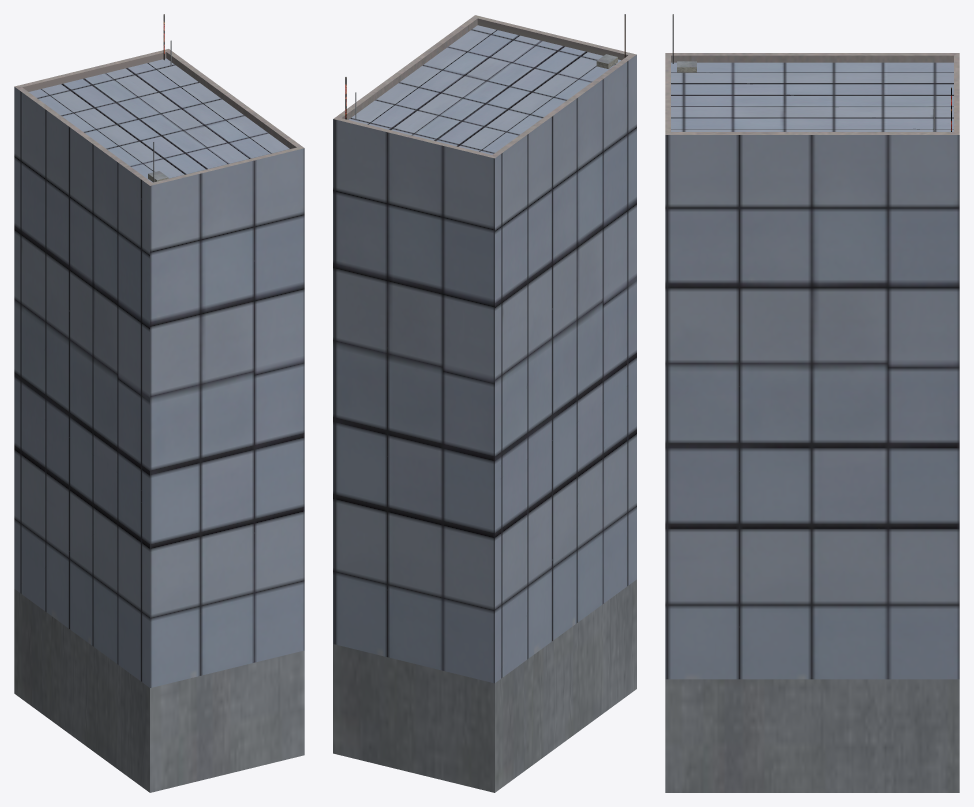
File: Building 4.fbx
3 renders of one model, left to right at view 1: azimuth 30°, elevation 25°; view 2: azimuth 150°, elevation 25°; view 3: azimuth 270°, elevation 25°, orthographic. The views are drawn at different scales.
Visible parts, largest first — view 1: Box082; view 2: Box082; view 3: Box082.
Part boxes in pixels (left/top/right/bottom): Box082: left=14, top=14, right=304, bottom=792; Box082: left=333, top=14, right=636, bottom=792; Box082: left=665, top=14, right=959, bottom=792.
Bounding box in the file's own units: 712 × 2843 × 1083.
